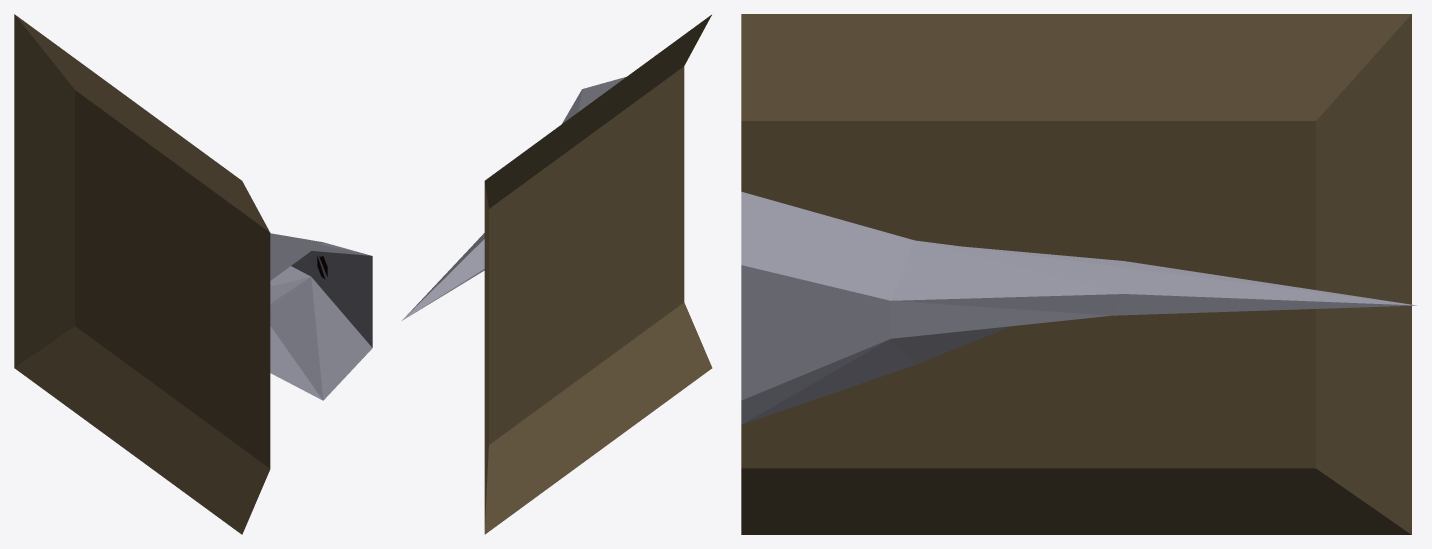
File: obj_stuffed_swordfish_2_0.obj
3 views of the same model, side by side, from view 1: azimuth 30°, elevation 25°; view 2: azimuth 150°, elevation 25°; view 3: azimuth 270°, elevation 25° (orthographic). The views are drawn at different scales.
Size of the model in its own units: 0.2891 by 0.75 by 0.8828.
